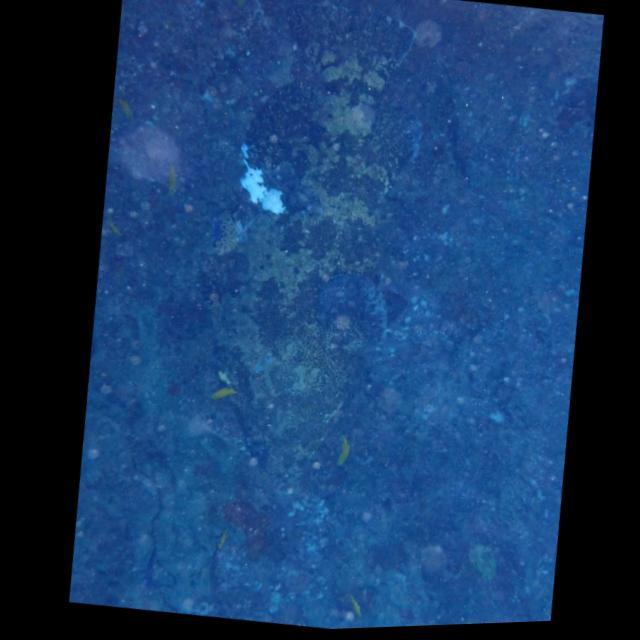Groupers: (152, 0, 450, 510)
